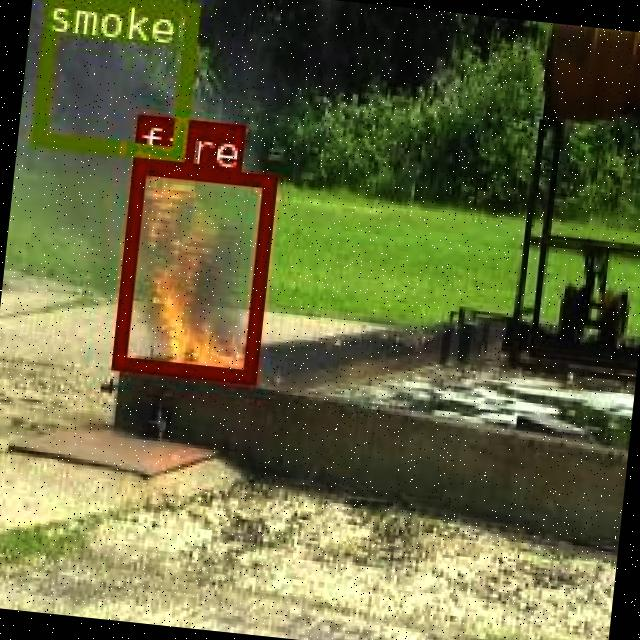fire: (109, 157, 274, 380)
smoke: (31, 0, 197, 157)
